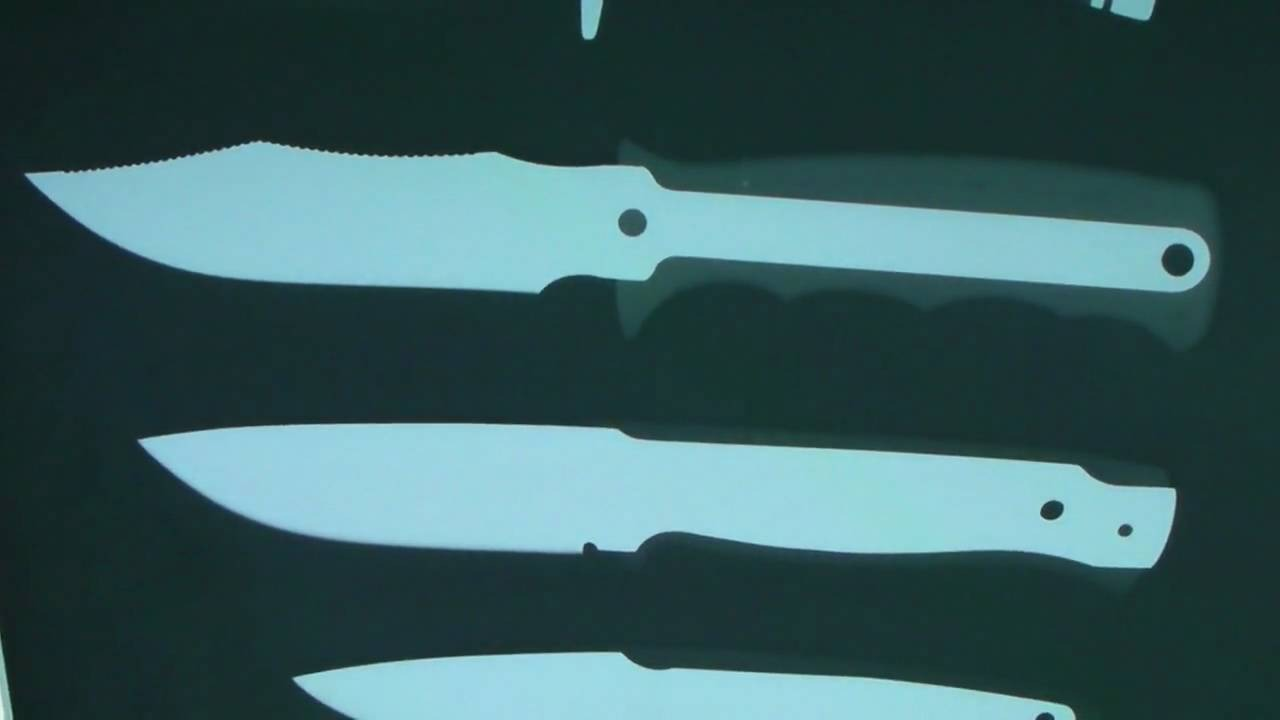knife: (16, 114, 1228, 359), (121, 411, 1200, 606), (249, 645, 1092, 719)
